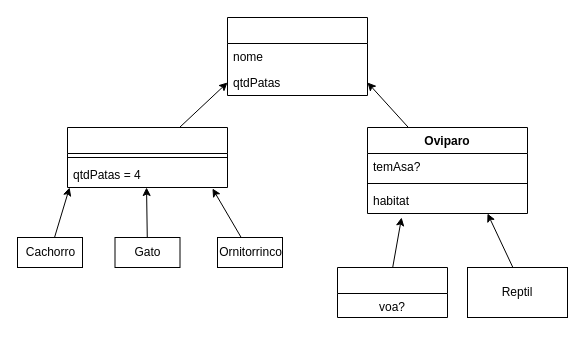
Image size: 585x338. Some labels were removed from this diagram. The shapes that lost their labels are listed below. From the top down, each one's box as (x1, y1, x2, y2) in pixels, then its label:
(226, 16, 368, 96): Animal
(66, 126, 228, 188): Mamifero
(336, 266, 448, 318): Ave
